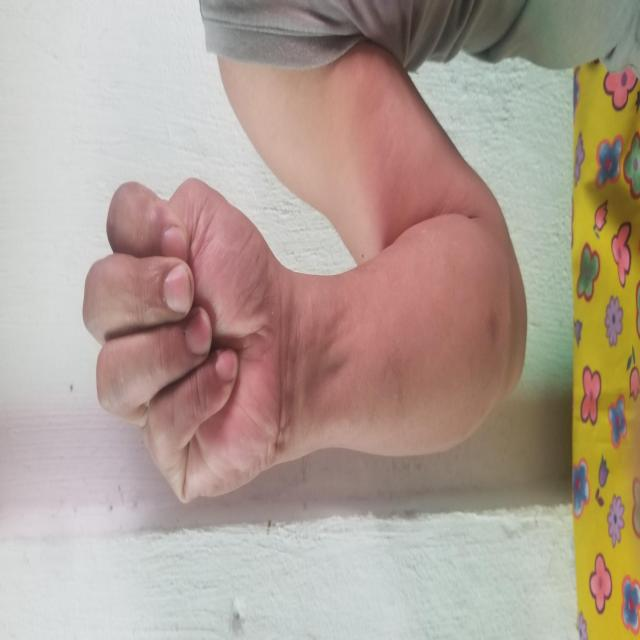M: (55, 110, 311, 550)
